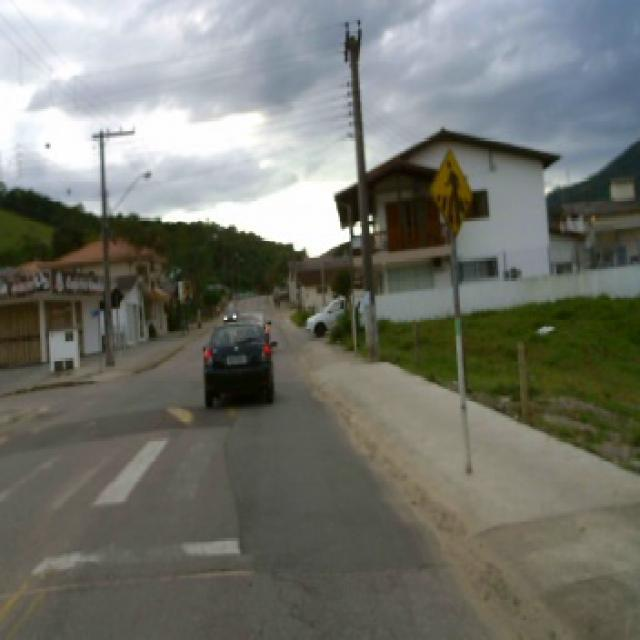Poth-hole: (0, 402, 240, 451), (28, 574, 126, 594), (158, 564, 256, 580)
